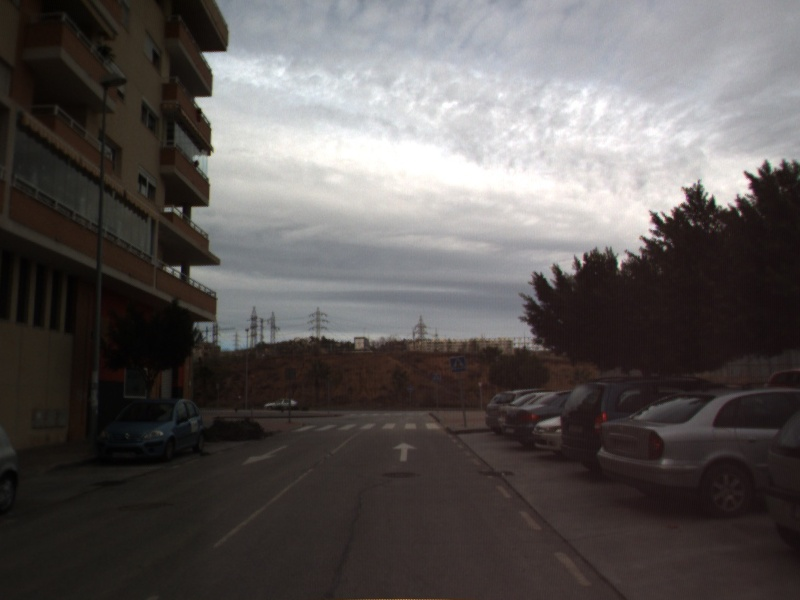STRAIGHT: (390, 440, 420, 464)
